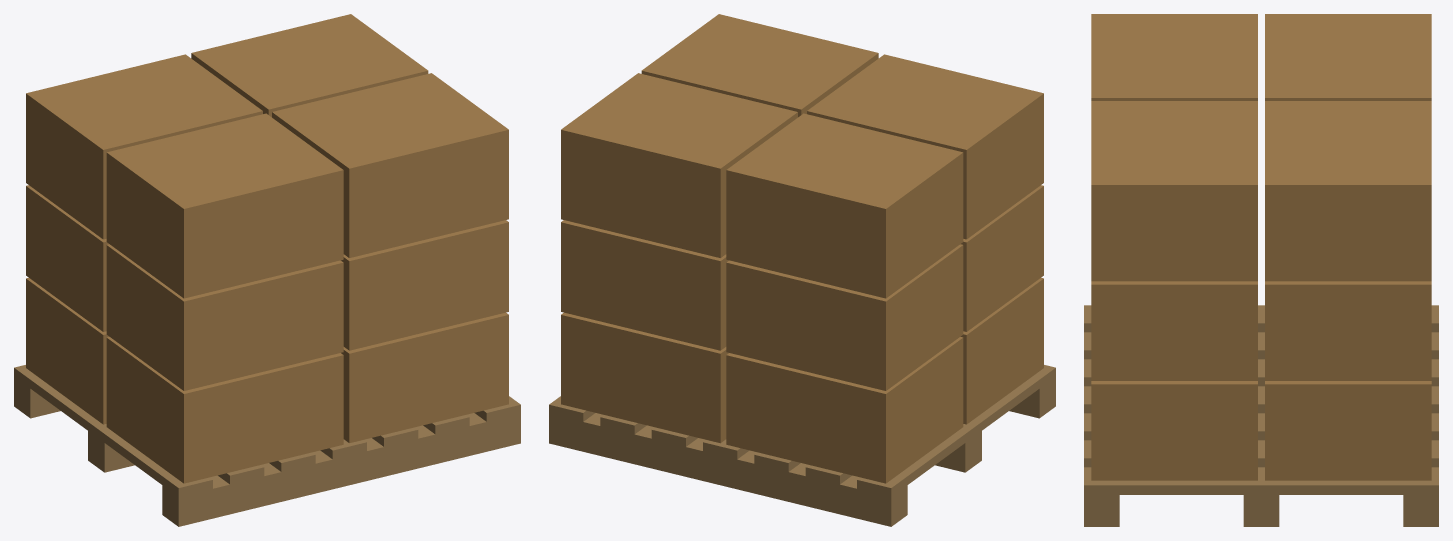
Rendered from pallet.glb.
The picture shows the model from 3 angles, left to right: view 1: azimuth 30°, elevation 25°; view 2: azimuth 150°, elevation 25°; view 3: azimuth 270°, elevation 25°; orthographic projection. The views are drawn at different scales.
Visible parts, largest first — view 1: pallet; view 2: pallet; view 3: pallet.
Boxes of the visible parts, x1=… form: pallet: x1=14, y1=14, x2=520, y2=526; pallet: x1=549, y1=14, x2=1055, y2=526; pallet: x1=1084, y1=14, x2=1438, y2=526.
Size of the model in its own units: 1.2 by 1.05 by 1.
